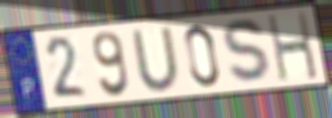0: (183, 23, 221, 89)
2: (45, 33, 89, 105)
9: (92, 30, 131, 99)
H: (265, 10, 321, 85)
S: (220, 17, 277, 87)
U: (129, 24, 184, 94)
